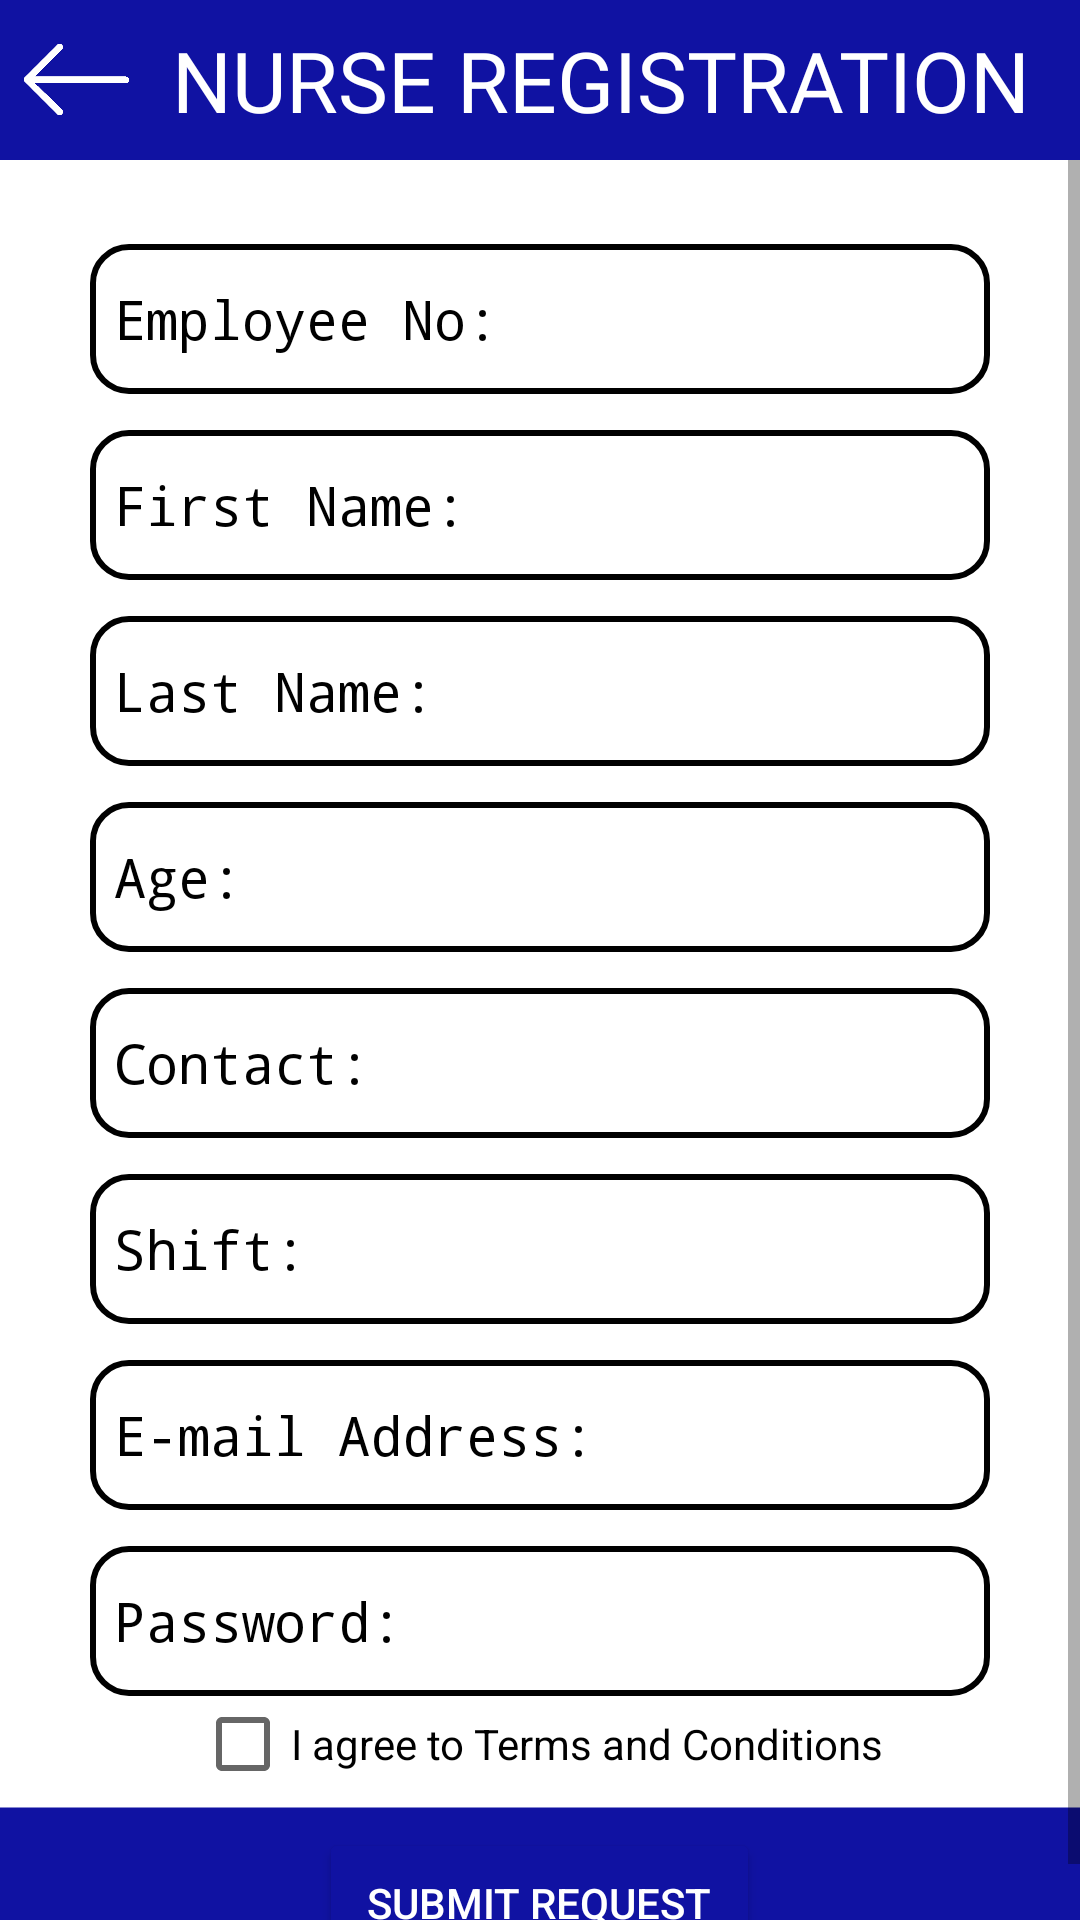

Icons on this 1080×1920 Android screen, each with its box as (x1, y1, x2, y2):
back: (24, 44, 129, 115)
